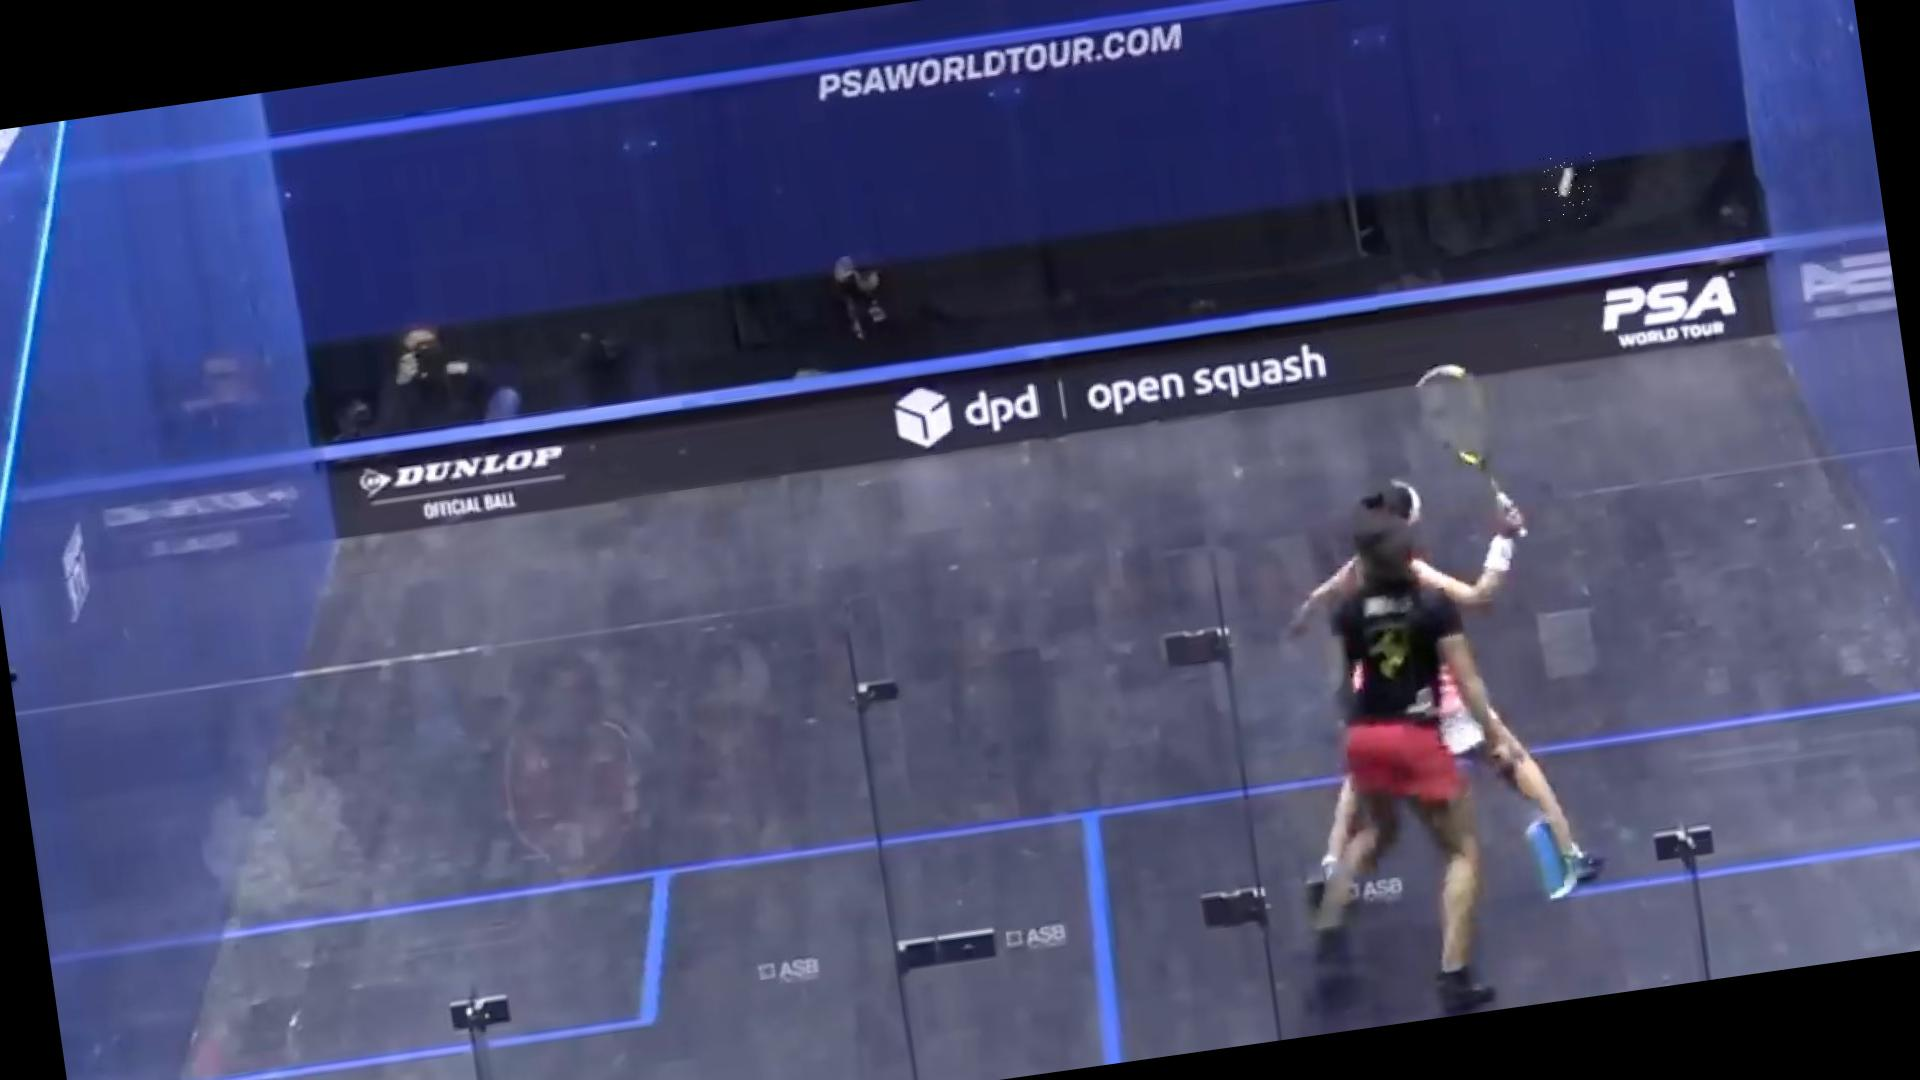Squash-Ball: (1536, 152, 1601, 224)
